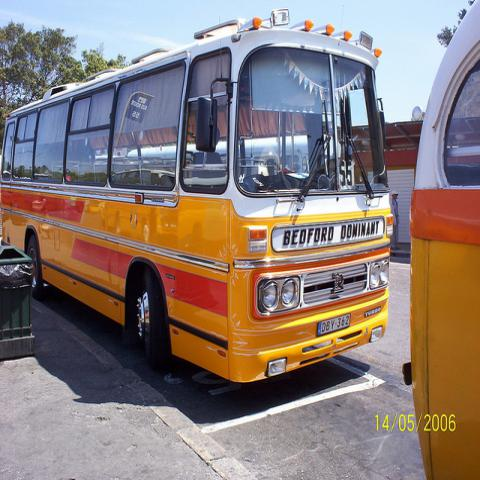bus: (1, 12, 396, 377), (403, 2, 479, 473)
